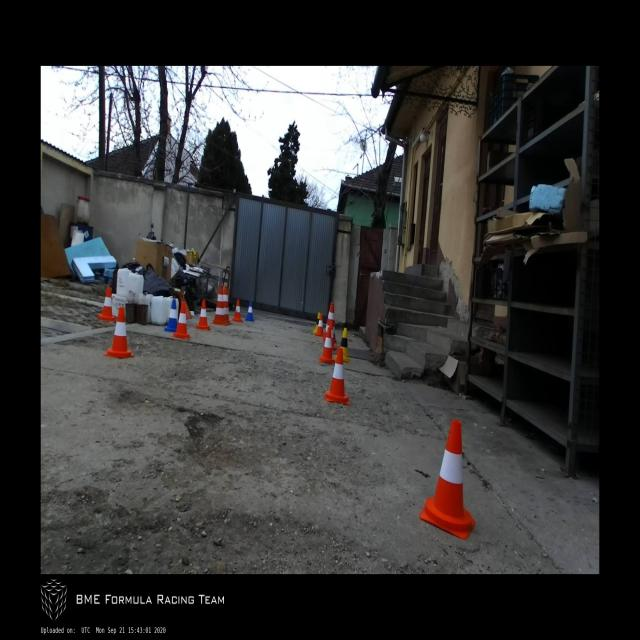blue_cone: (164, 300, 178, 332), (245, 301, 254, 322)
large_orange_cone: (211, 284, 227, 327), (323, 301, 336, 345), (223, 285, 232, 326)
orange_cone: (418, 418, 476, 541), (104, 306, 134, 358), (324, 347, 350, 406), (172, 301, 190, 339), (97, 286, 115, 322), (319, 327, 336, 364), (196, 300, 210, 330), (233, 298, 243, 323), (328, 320, 336, 350), (316, 313, 324, 336)
yellow_cone: (335, 327, 350, 362), (313, 312, 320, 333)
